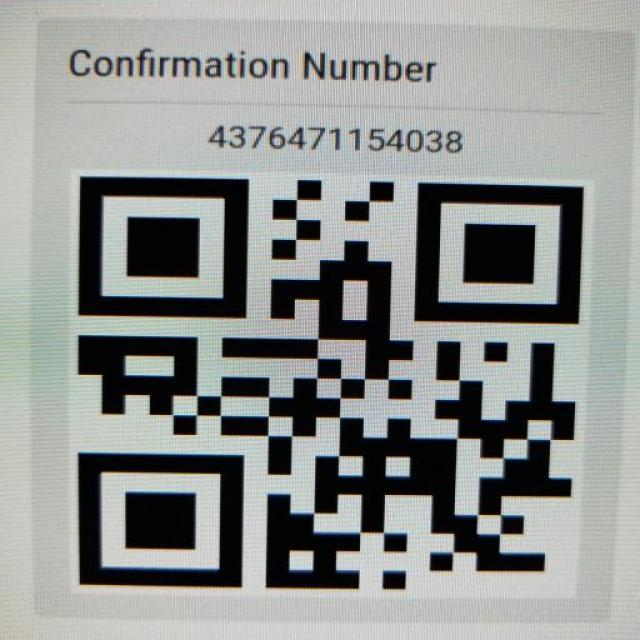QR_CODE: (62, 158, 592, 606)
